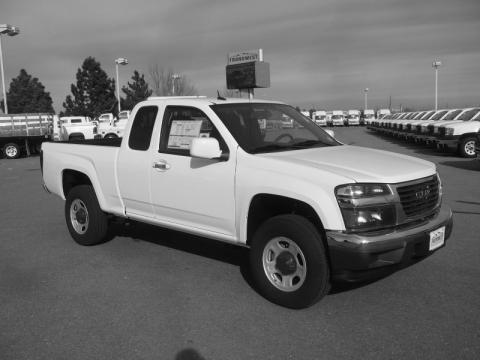car: (41, 99, 454, 309)
